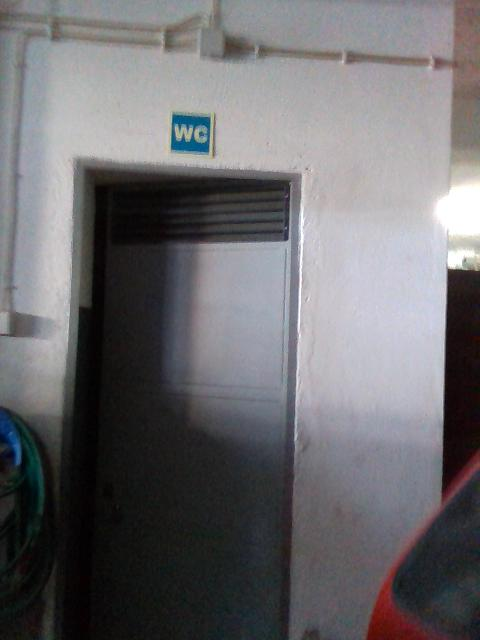door: (48, 163, 293, 632)
